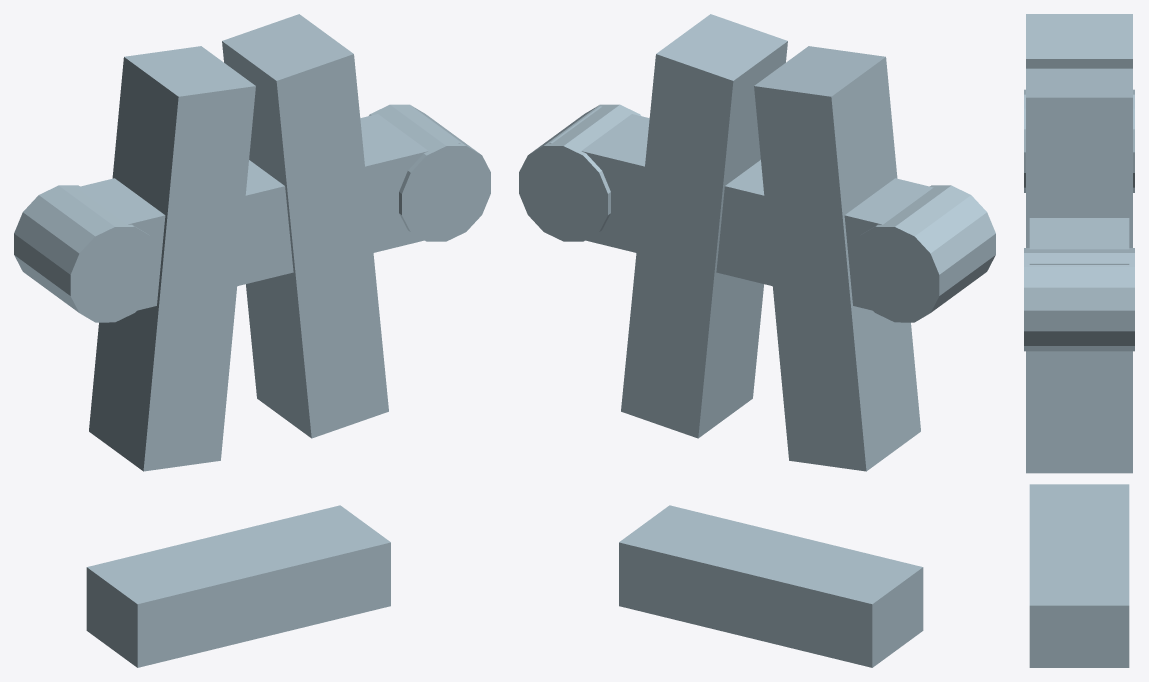
The model's file is cctv.glb.
The picture shows the model from 3 angles, left to right: view 1: azimuth 30°, elevation 25°; view 2: azimuth 150°, elevation 25°; view 3: azimuth 270°, elevation 25°; orthographic projection. The views are drawn at different scales.
Visible parts, largest first — view 1: cctv; view 2: cctv; view 3: cctv.
Boxes of the visible parts, box(x1,y1,x2,y2) form: cctv: box(14, 14, 490, 667); cctv: box(519, 14, 995, 667); cctv: box(1024, 14, 1134, 667).
Bounding box in the file's own units: 249 × 318 × 58.
